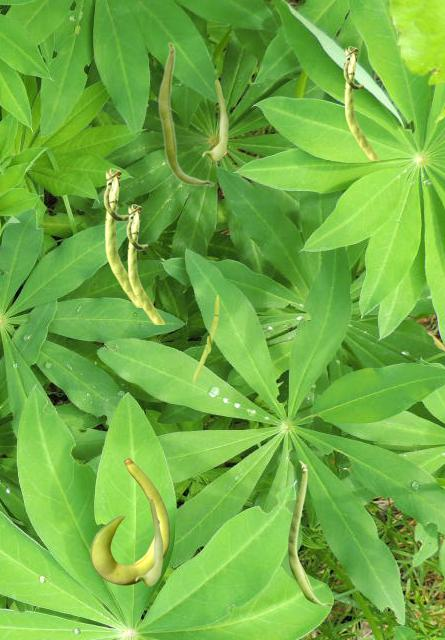french_bean: (90, 458, 169, 584), (157, 41, 214, 186), (288, 460, 332, 605), (103, 168, 140, 306), (126, 204, 164, 323), (343, 46, 379, 159), (191, 293, 219, 393), (135, 498, 162, 585), (202, 79, 227, 160)
